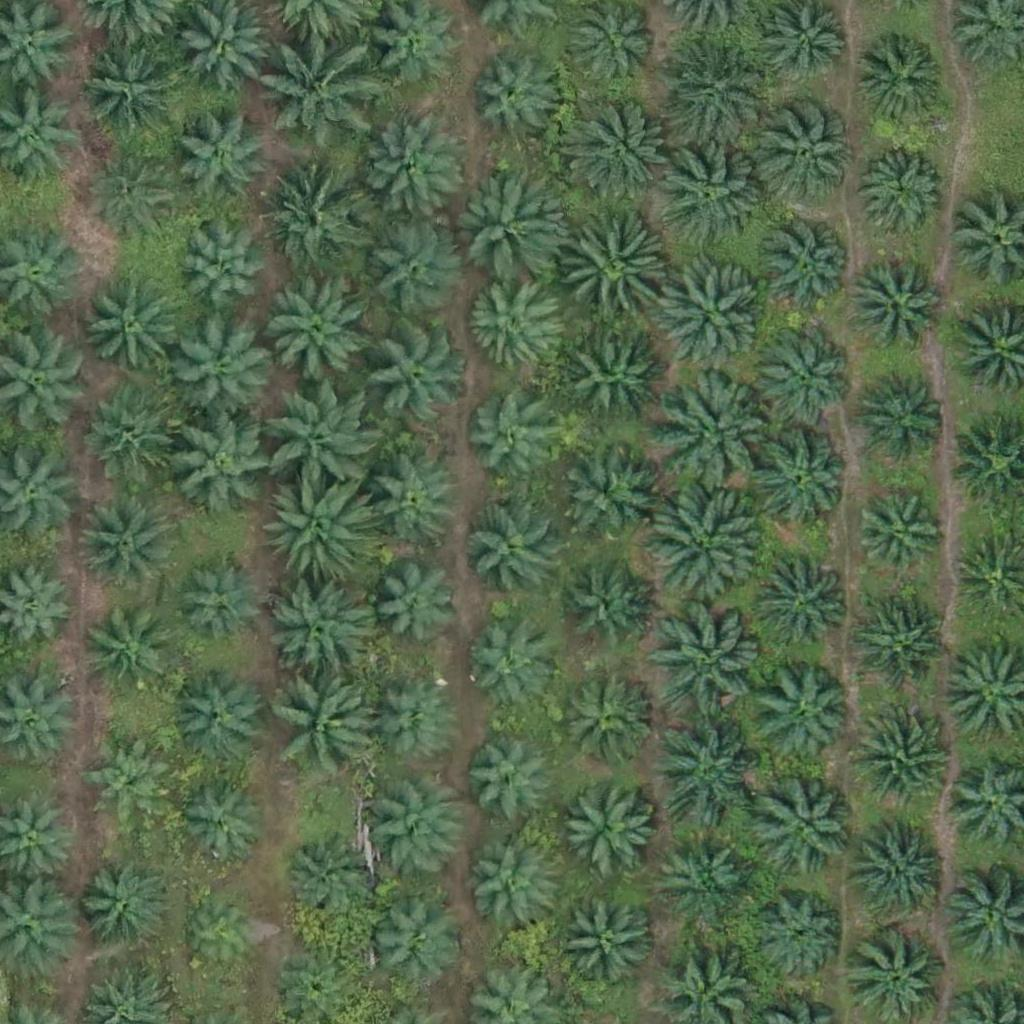Kelapa_Sawit: (560, 90, 673, 204), (654, 138, 767, 252), (657, 32, 770, 145), (646, 488, 759, 601), (659, 372, 772, 485), (650, 258, 763, 371), (264, 381, 377, 494), (264, 39, 376, 153), (554, 217, 666, 330), (647, 715, 759, 828), (653, 604, 765, 717), (547, 440, 659, 553), (261, 474, 373, 587), (82, 140, 182, 241), (84, 43, 184, 144), (171, 108, 271, 209), (262, 172, 362, 273), (357, 120, 457, 221), (450, 171, 550, 272), (276, 679, 376, 780), (283, 827, 383, 928), (556, 894, 656, 995), (558, 775, 658, 876), (554, 666, 654, 767), (653, 827, 753, 928), (750, 661, 850, 762), (849, 705, 949, 806), (851, 593, 951, 694), (750, 426, 850, 527), (748, 552, 848, 653), (568, 332, 668, 433), (460, 500, 560, 601), (466, 389, 566, 490), (366, 328, 466, 429), (363, 450, 463, 551), (265, 276, 365, 377), (172, 320, 272, 421), (83, 277, 183, 378), (357, 218, 457, 318), (761, 100, 861, 200), (854, 32, 954, 132), (753, 221, 853, 321), (166, 670, 266, 770), (173, 774, 273, 874), (366, 781, 466, 881), (755, 780, 855, 880), (856, 816, 956, 916), (855, 364, 955, 464), (847, 255, 947, 355), (756, 328, 856, 428), (267, 582, 367, 682), (177, 419, 277, 519), (76, 494, 176, 594), (83, 386, 183, 486), (82, 866, 170, 955), (857, 142, 945, 230), (85, 609, 173, 697), (85, 736, 173, 824), (368, 678, 456, 766), (369, 899, 457, 987), (466, 736, 554, 824), (466, 843, 554, 931), (853, 494, 941, 582), (561, 561, 649, 649), (468, 284, 556, 372), (172, 562, 260, 650), (367, 1, 454, 90), (180, 232, 267, 320), (470, 50, 557, 138), (755, 891, 842, 979), (459, 625, 546, 713), (370, 557, 457, 645), (185, 899, 260, 975)
